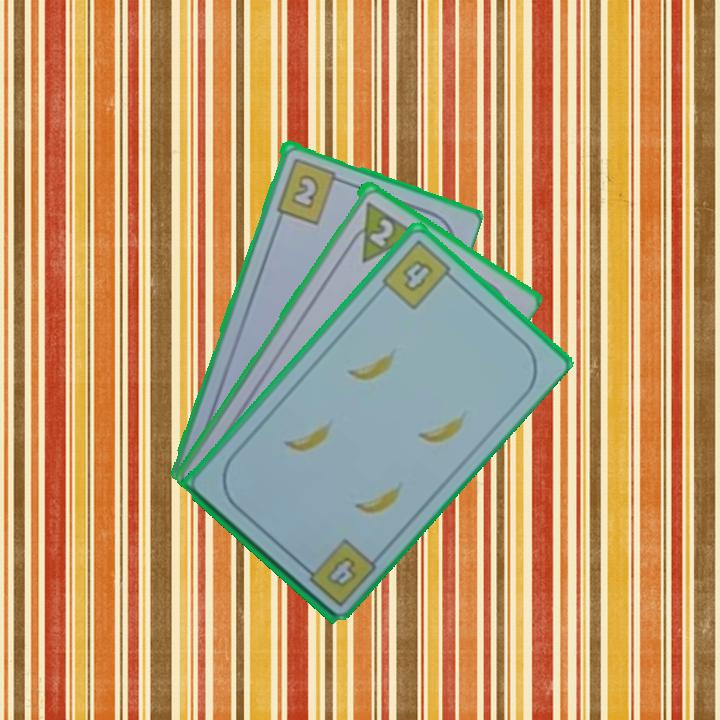2b: (273, 154, 347, 226)
2p: (365, 214, 397, 250)
4b: (377, 236, 460, 313), (296, 535, 379, 610)
